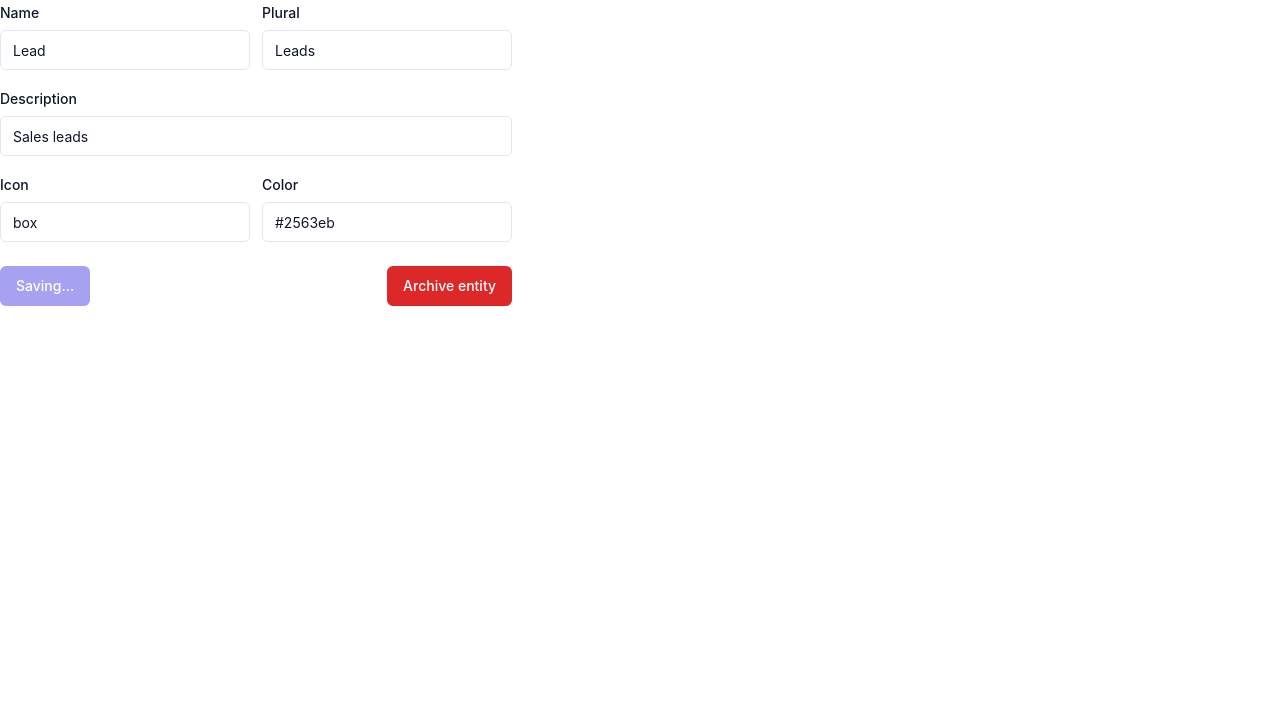
Test: EntitySettings › shows pending labels while saving and archiving
Step 1. Replace the text in the field labelled "Name" with "Prospect" → (125, 50), box [0, 30, 250, 70]
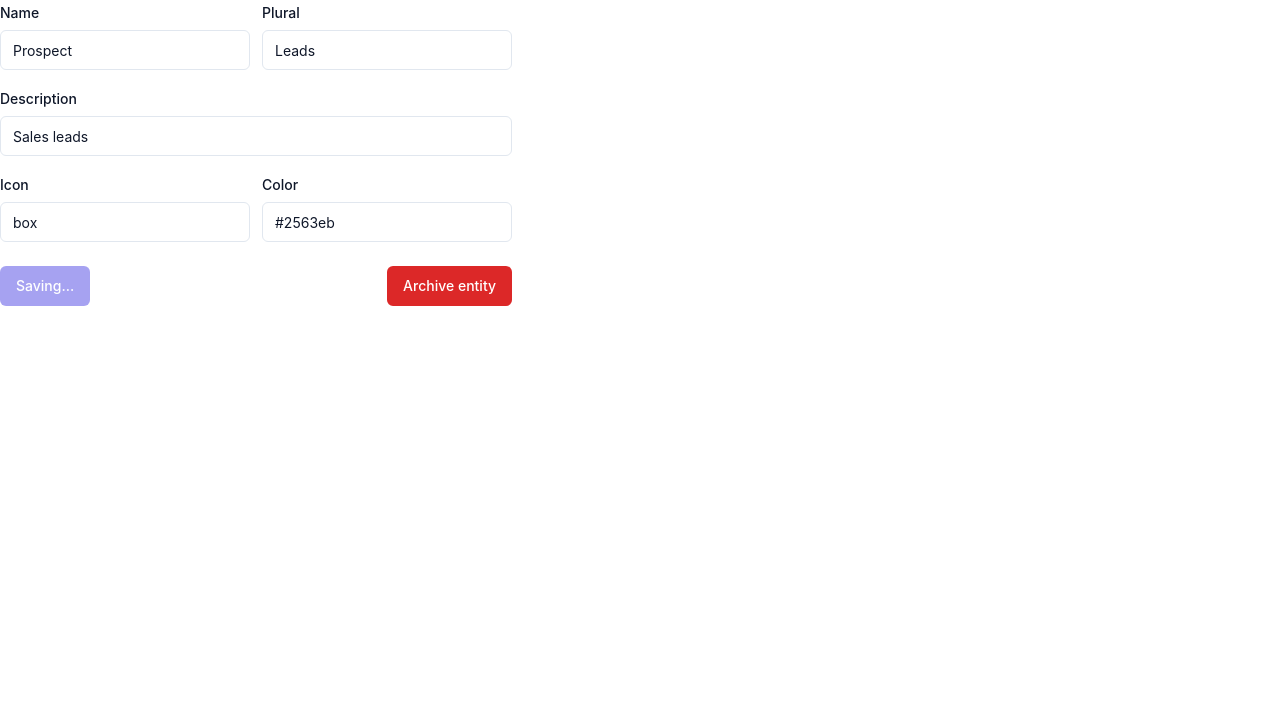
Expected: the button "Saving…" is disabled, [0, 266, 90, 306]
Step 2. Click the button "Archive entity" → (450, 286), box [387, 266, 512, 306]
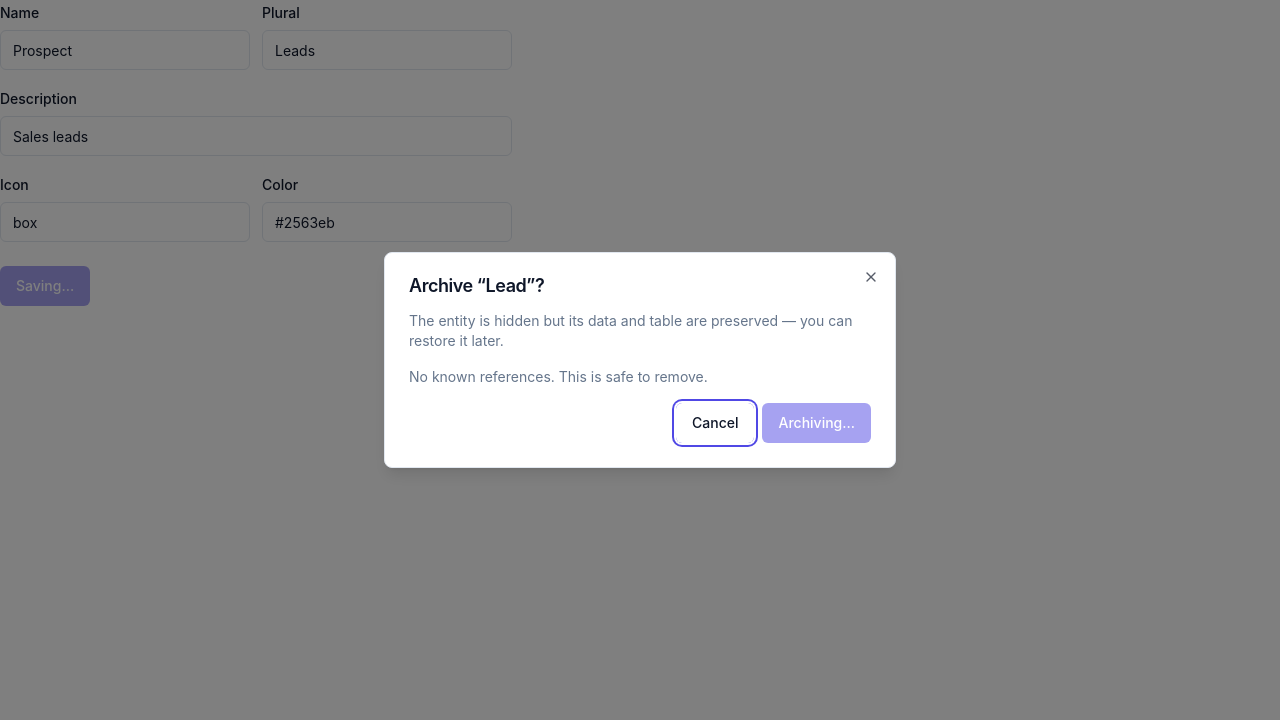
Result: the button "Archiving…" is disabled at [762, 403, 871, 443]
